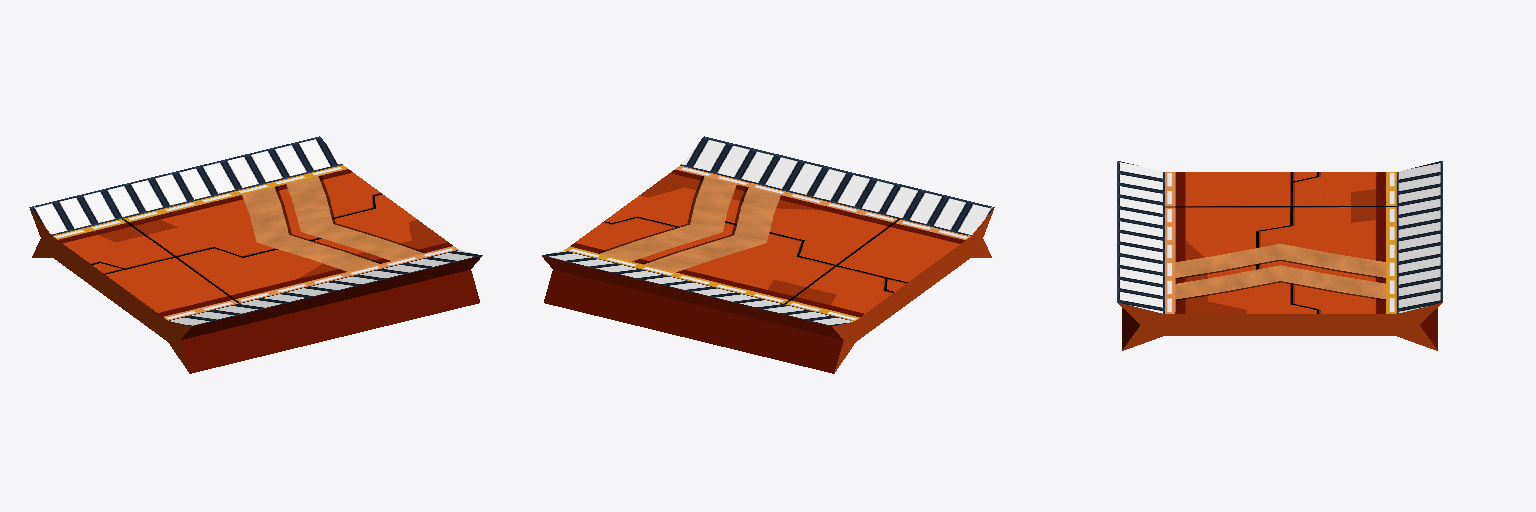
3 views of the same model, side by side, from view 1: azimuth 30°, elevation 25°; view 2: azimuth 150°, elevation 25°; view 3: azimuth 270°, elevation 25° (orthographic).
Parts seen in each view (by area): view 1: Road1_Cube.003; view 2: Road1_Cube.003; view 3: Road1_Cube.003.
Part boxes in pixels (x1,y1,x2,y2): Road1_Cube.003: (29,136,482,373); Road1_Cube.003: (542,136,994,373); Road1_Cube.003: (1117,161,1442,350).
Bounding box in the file's own units: 27.1 × 4.38 × 26.3.
1 materials, 1 textured.